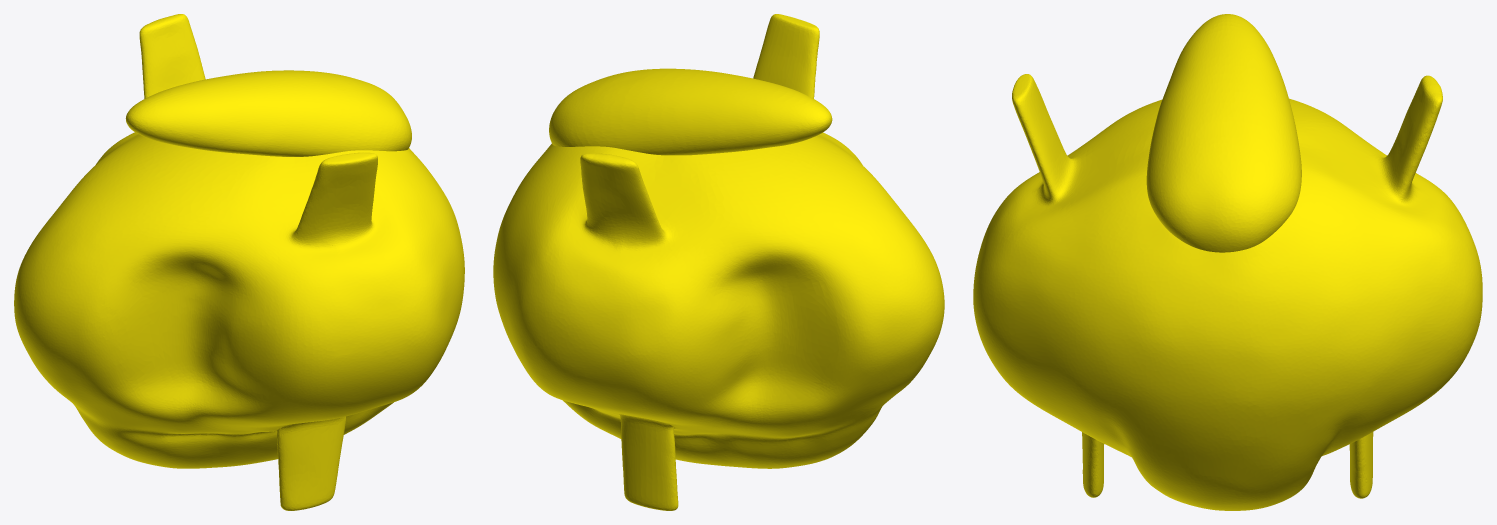
File: protoss_probe_4bc3b7.glb
3 views of the same model, side by side, from view 1: azimuth 30°, elevation 25°; view 2: azimuth 150°, elevation 25°; view 3: azimuth 270°, elevation 25° (orthographic). The views are drawn at different scales.
Parts seen in each view (by area): view 1: Probe; view 2: Probe; view 3: Probe.
Part boxes in pixels (box(x1,y1,x2,y2)): Probe: box(14, 14, 464, 510); Probe: box(493, 14, 944, 510); Probe: box(973, 14, 1482, 510).
Bounding box in the file's own units: 3.01 × 2.73 × 2.97.
